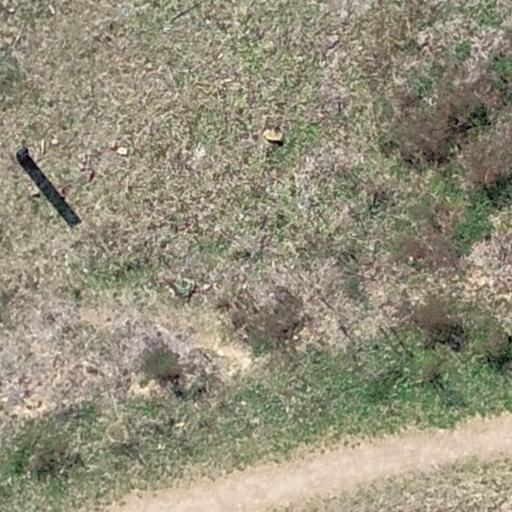stone: (262, 127, 286, 141), (116, 147, 128, 155), (50, 138, 59, 145), (7, 7, 16, 14)
